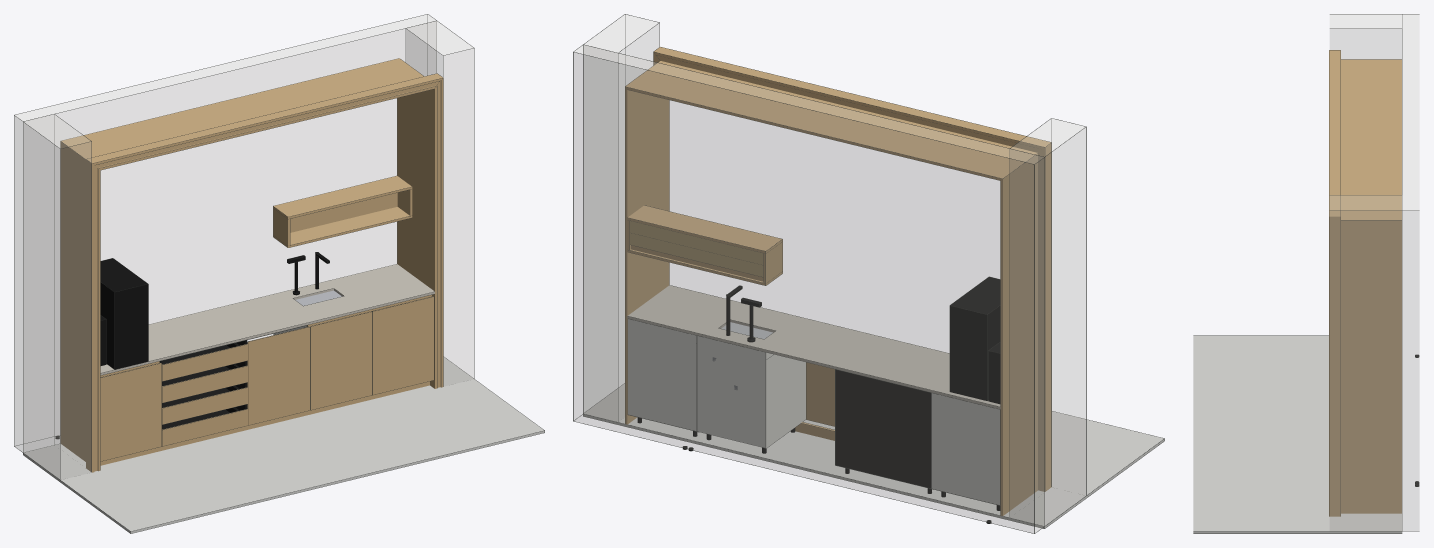
File: modell.glb
The picture shows the model from 3 angles, left to right: view 1: azimuth 30°, elevation 25°; view 2: azimuth 150°, elevation 25°; view 3: azimuth 270°, elevation 25°; orthographic projection. The views are drawn at different scales.
Bounding box in the file's own units: 4003 × 3081 × 1954.
